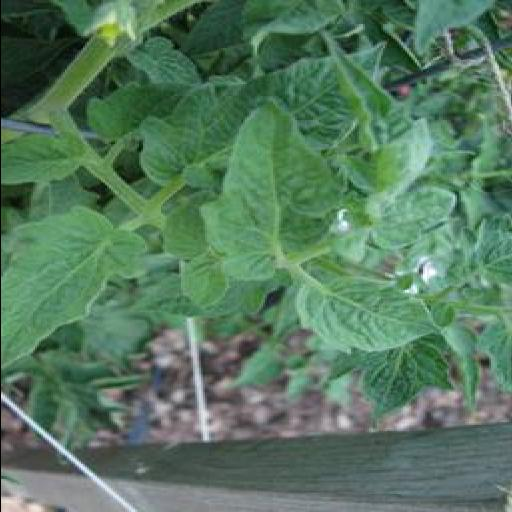Healthy: (196, 92, 344, 284), (280, 269, 436, 353)
